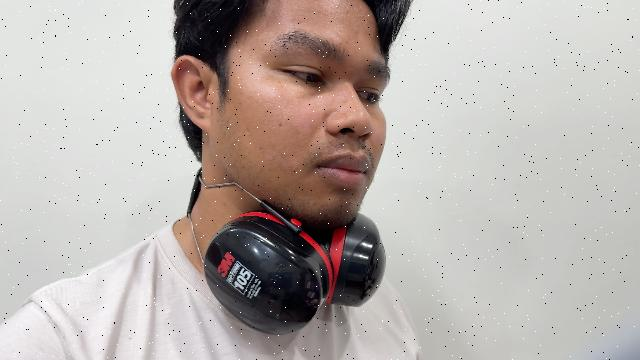headphones: (188, 169, 385, 334)
right_ear: (171, 55, 222, 133)
